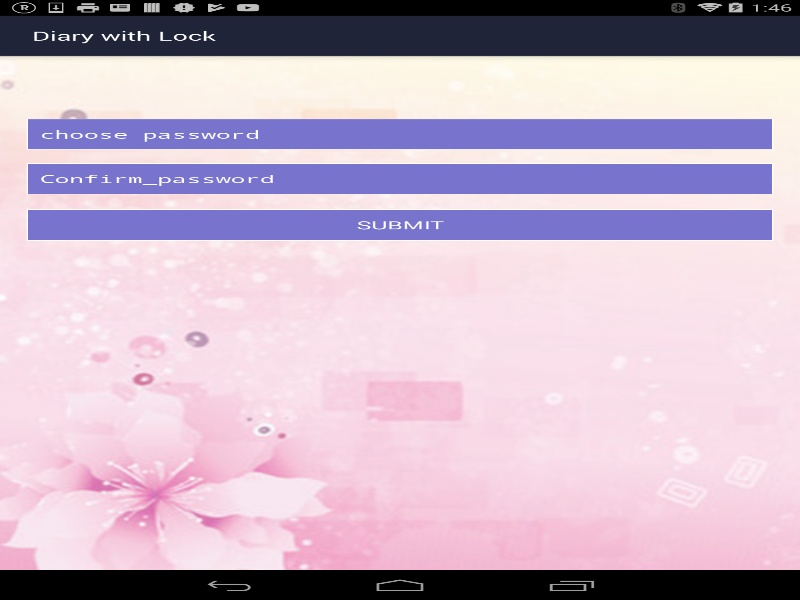Button: (26, 209, 773, 240)
Input: (26, 118, 773, 150), (26, 163, 773, 194)
